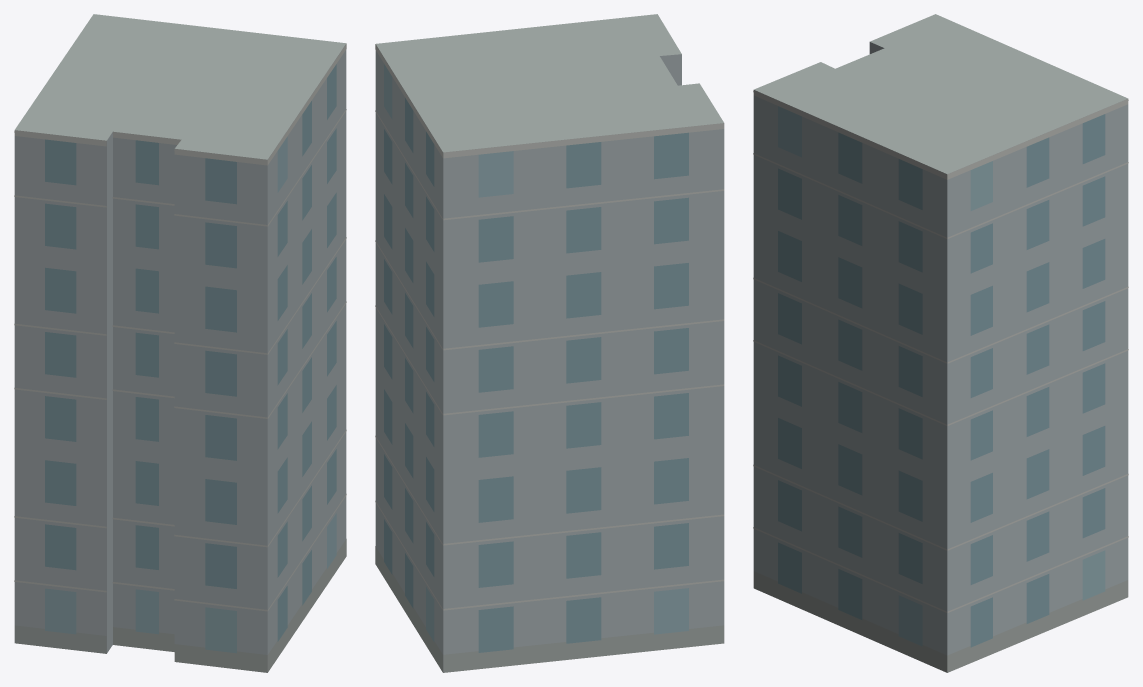
The model's file is survey-upis-32659702.glb.
3 views of the same model, side by side, from view 1: azimuth 30°, elevation 25°; view 2: azimuth 150°, elevation 25°; view 3: azimuth 270°, elevation 25° (orthographic). The views are drawn at different scales.
Visible parts, largest first — view 1: survey-upis-32659702.tmp; view 2: survey-upis-32659702.tmp; view 3: survey-upis-32659702.tmp.
Part boxes in pixels (bbox=[...]): survey-upis-32659702.tmp: bbox=[14, 14, 346, 672]; survey-upis-32659702.tmp: bbox=[375, 14, 724, 672]; survey-upis-32659702.tmp: bbox=[753, 14, 1128, 672].
Bounding box in the file's own units: 14.76 × 21.4 × 14.59.
